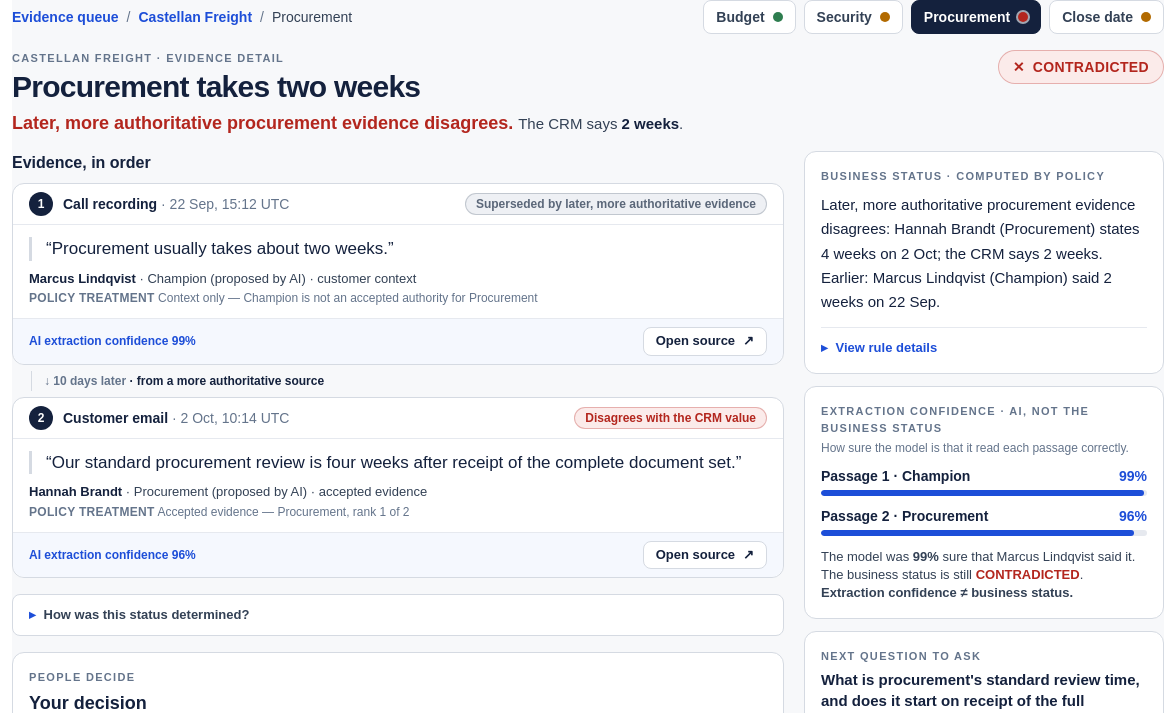
Scenario: Final refinements › rule metadata moved behind 'View rule details' and nothing was removed
Click the heading "▸ View rule details" at (879, 347), box 821,340 -> 937,355
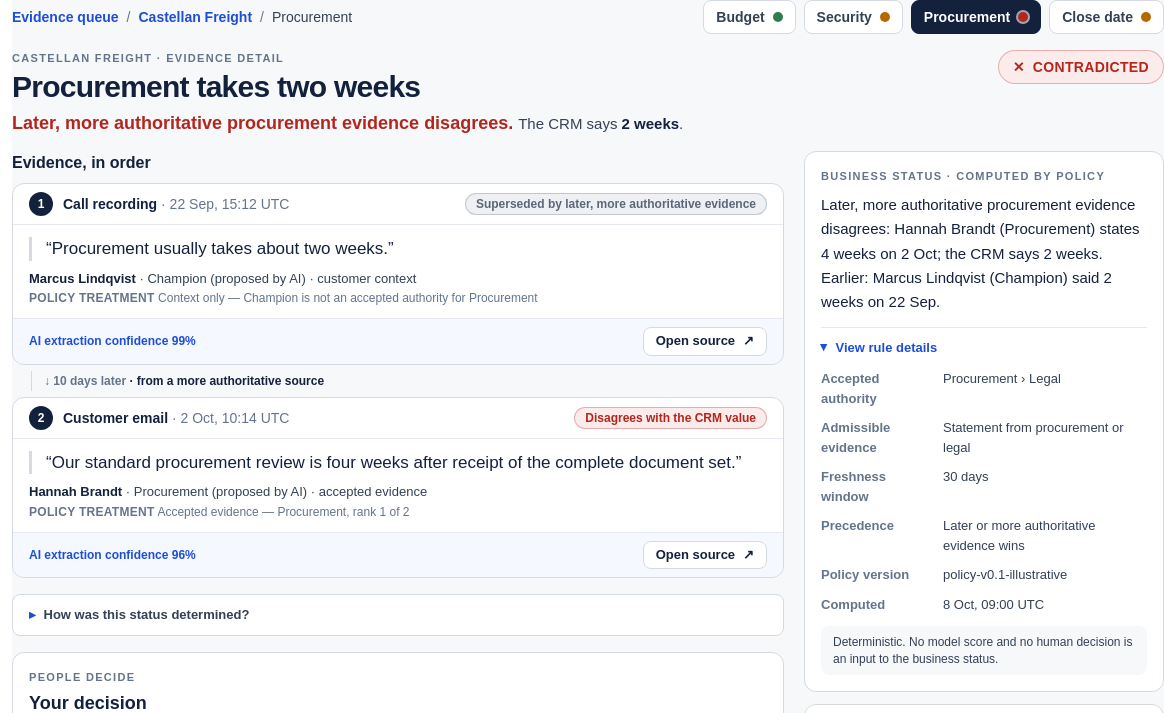
Result: the element with test id "rule-details" shows "Accepted authority" at 821,371 -> 880,406
Result: the element with test id "rule-details" shows "Admissible evidence" at 821,420 -> 890,455
Result: the element with test id "rule-details" shows "Freshness window" at 821,469 -> 886,504
